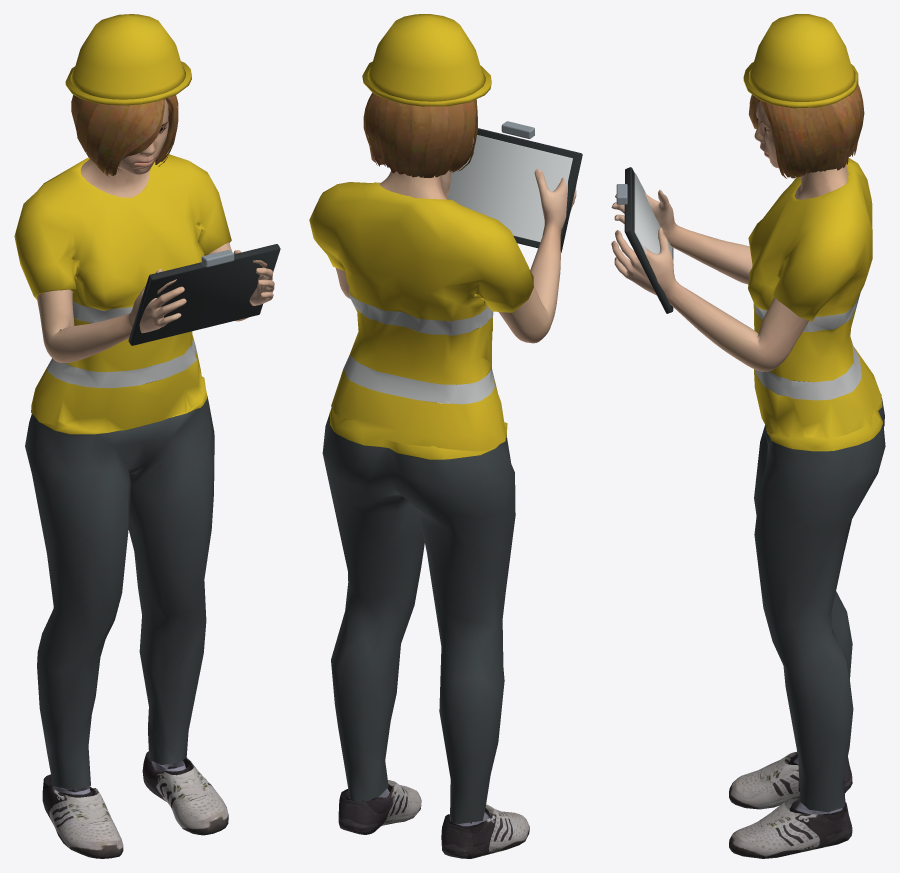
The model's file is worker-qc.glb.
The picture shows the model from 3 angles, left to right: view 1: azimuth 30°, elevation 25°; view 2: azimuth 150°, elevation 25°; view 3: azimuth 270°, elevation 25°; orthographic projection. The views are drawn at different scales.
Visible parts, largest first — view 1: female_casualsuit01, Taylor | anatomical body, shoes05, Tablet case, bob02; view 2: female_casualsuit01, Tablet display, bob02, Taylor | anatomical body, shoes05, Tablet case; view 3: female_casualsuit01, Taylor | anatomical body, shoes05, bob02, Tablet case, Tablet display.
Boxes of the visible parts, x1,y1,x2,y2 form: female_casualsuit01: [14, 14, 231, 789]; Taylor | anatomical body: [36, 99, 274, 362]; shoes05: [42, 751, 228, 858]; Tablet case: [128, 244, 280, 345]; bob02: [71, 95, 178, 176]; female_casualsuit01: [309, 14, 533, 823]; Tablet display: [447, 135, 572, 242]; bob02: [363, 92, 477, 177]; Taylor | anatomical body: [335, 169, 576, 343]; shoes05: [338, 780, 529, 858]; Tablet case: [477, 128, 582, 252]; female_casualsuit01: [743, 14, 885, 812]; Taylor | anatomical body: [611, 100, 848, 371]; shoes05: [729, 752, 852, 858]; bob02: [748, 84, 864, 178]; Tablet case: [624, 167, 673, 313]; Tablet display: [634, 173, 672, 256].
Bounding box in the file's own units: 0.4618 × 1.77 × 0.5461.
Materials: 14 (12 with a texture image).
